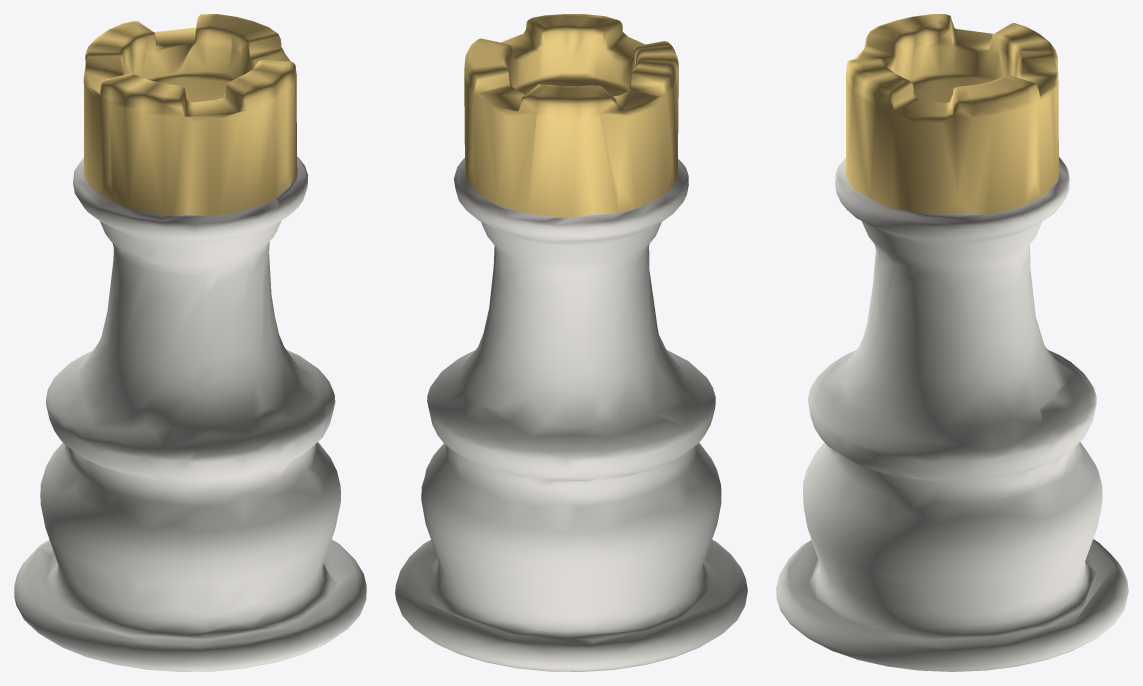
Rendered from gercek7_r_w.glb.
The picture shows the model from 3 angles, left to right: view 1: azimuth 30°, elevation 25°; view 2: azimuth 150°, elevation 25°; view 3: azimuth 270°, elevation 25°; orthographic projection.
Visible parts, largest first — view 1: r_w; view 2: r_w; view 3: r_w.
Part boxes in pixels (box(x1,y1,x2,y2)): r_w: box(14, 14, 366, 671); r_w: box(395, 14, 747, 671); r_w: box(776, 14, 1128, 671).
Bounding box in the file's own units: 0.52 × 0.9 × 0.52.
